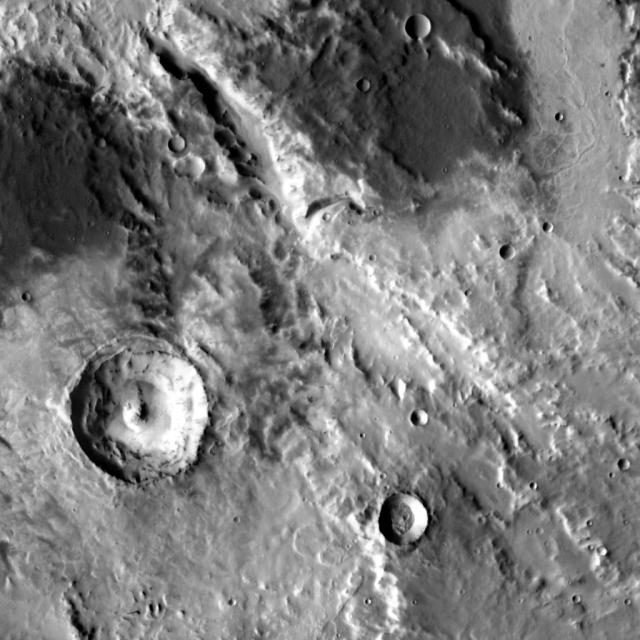crater: (69, 452, 390, 640), (73, 347, 211, 483), (382, 495, 432, 546), (409, 15, 434, 40), (184, 155, 207, 177), (414, 410, 432, 427), (503, 244, 520, 261), (175, 160, 192, 176), (172, 135, 188, 151), (360, 78, 373, 92), (621, 460, 632, 470), (546, 224, 556, 234), (98, 141, 108, 151), (601, 548, 611, 558), (23, 292, 32, 302), (559, 113, 567, 121), (532, 481, 540, 489), (326, 213, 334, 221), (621, 592, 628, 600), (228, 510, 236, 517), (481, 516, 488, 524), (225, 592, 232, 599), (570, 589, 577, 596), (366, 247, 372, 254), (532, 520, 539, 526), (462, 284, 468, 290)
